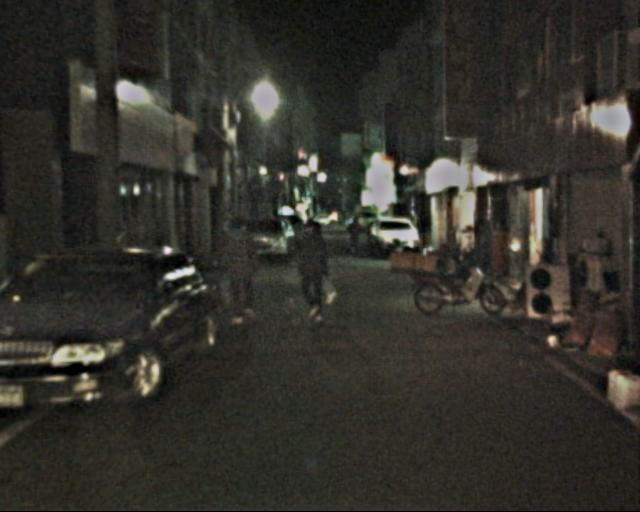person: (216, 214, 261, 326), (288, 221, 337, 323), (346, 217, 363, 255)
